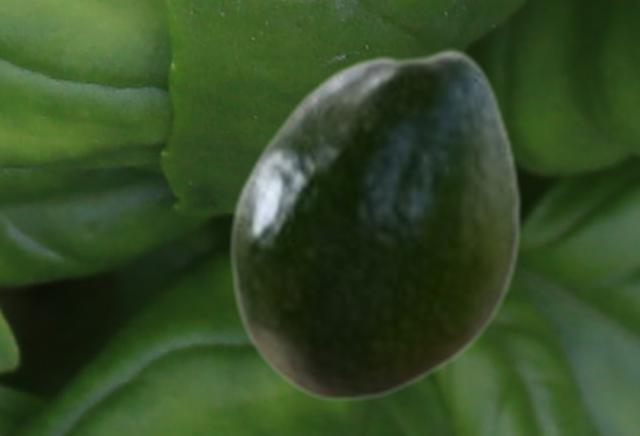avocado: (227, 47, 521, 402)
